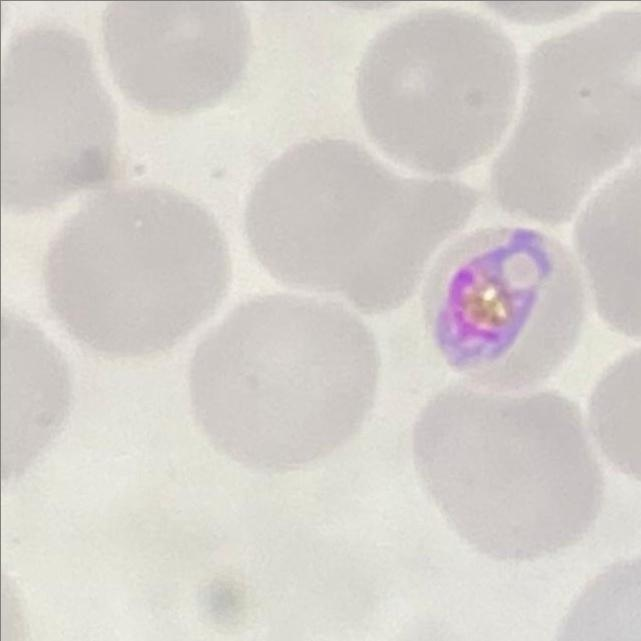Infected: (422, 226, 588, 399)
Uninfected: (243, 137, 473, 312), (410, 379, 604, 559), (187, 292, 379, 471), (487, 9, 641, 230), (42, 182, 231, 358), (357, 12, 520, 174), (0, 27, 123, 215), (102, 0, 257, 116)
